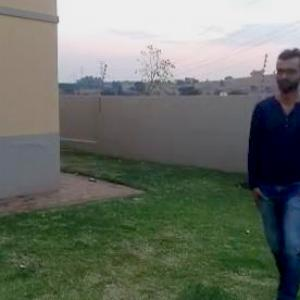follow: (234, 40, 299, 299)
